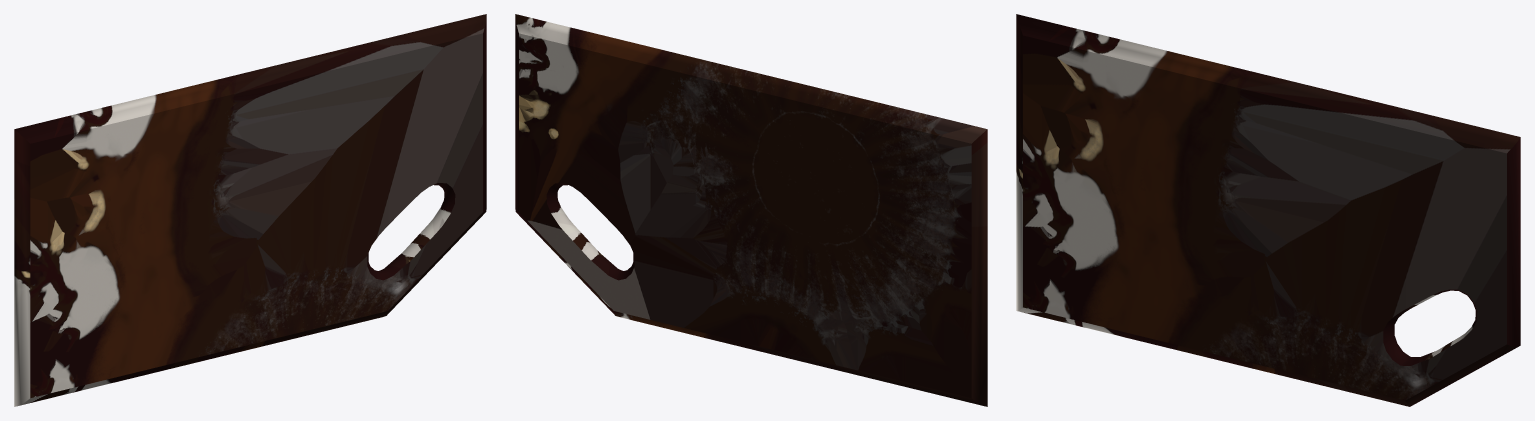
3 renders of one model, left to right at view 1: azimuth 30°, elevation 25°; view 2: azimuth 150°, elevation 25°; view 3: azimuth 330°, elevation 25°, orthographic. The views are drawn at different scales.
Size of the model in its own units: 1 by 0.5622 by 0.0351.
